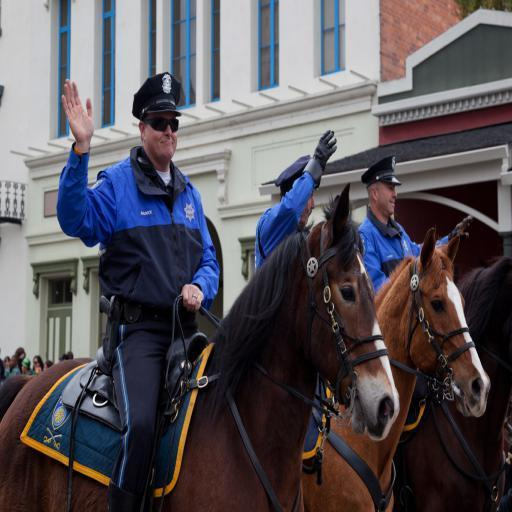horse: (0, 182, 401, 511), (300, 226, 492, 512), (393, 249, 512, 512)
